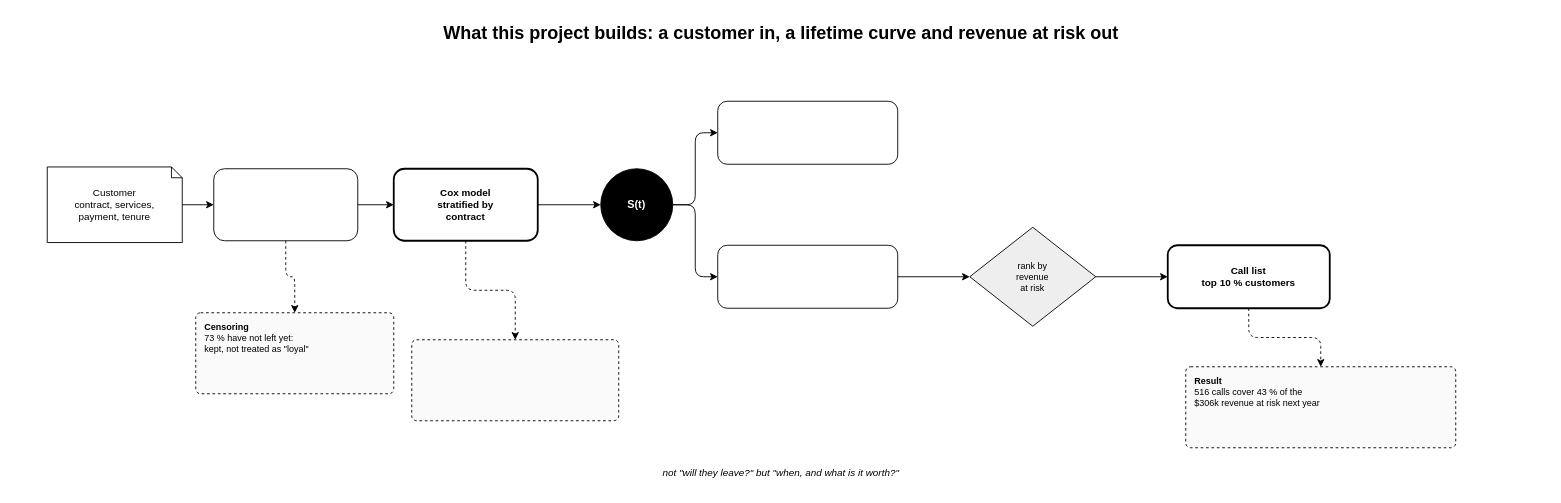
Image size: 1561x503. Some labels were removed from this diagram. The centre of each missing label's shape, as x and y in pixels:
"Encode (no TotalCharges: it leaks tenure)" belongs at (285,204).
"Expected months (RMST) x monthly bill" belongs at (807,276).
"P(still a customer) in 6 / 12 / 24 months" belongs at (807,132).
"Why Cox C-index 0.85 vs 0.81 for a yes/no classifier; calibrated" belongs at (515,380).
